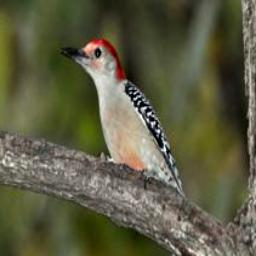Woodpecker: (59, 35, 204, 256)
